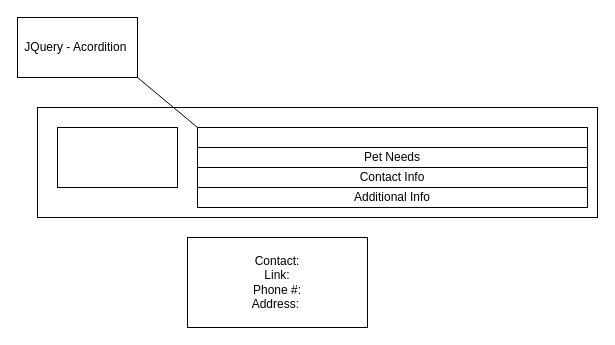
This 615x345 diagram has some shape labels left out. Each missing label, with the centre of its shape:
"General Info" goes at point 392,137.
"Pet Picture" goes at point 117,157.
